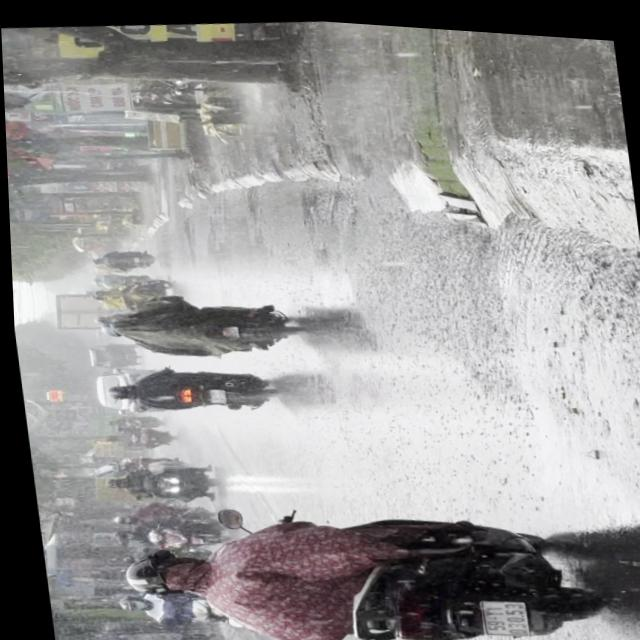helmet: (114, 549, 199, 598), (94, 315, 118, 337), (100, 381, 129, 398)
licenseplate: (97, 464, 640, 640), (82, 279, 315, 372), (95, 353, 274, 424)
nohelmet: (476, 591, 522, 630), (207, 384, 223, 400)
